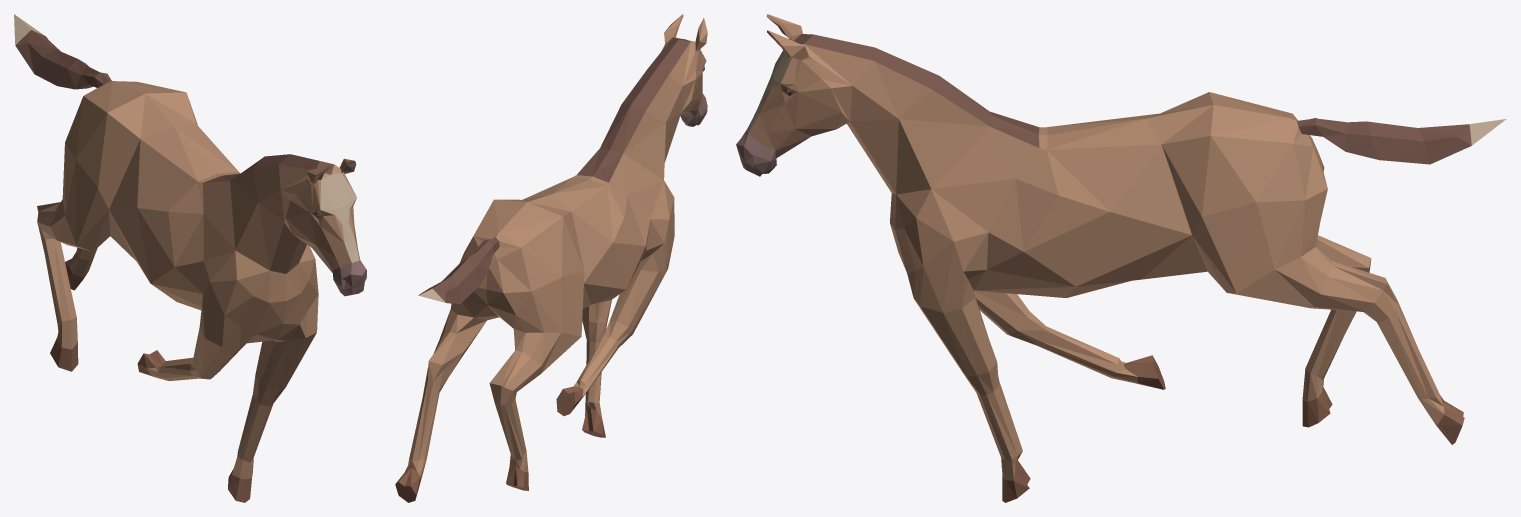
3 renders of one model, left to right at view 1: azimuth 30°, elevation 25°; view 2: azimuth 150°, elevation 25°; view 3: azimuth 270°, elevation 25°, orthographic. The views are drawn at different scales.
Visible parts, largest first — view 1: mesh_0; view 2: mesh_0; view 3: mesh_0.
Part boxes in pixels (<box>): mesh_0: <box>14,14,366,502</box>; mesh_0: <box>395,14,707,502</box>; mesh_0: <box>736,14,1506,502</box>.
Size of the model in its own units: 65.75 by 199 by 292.
